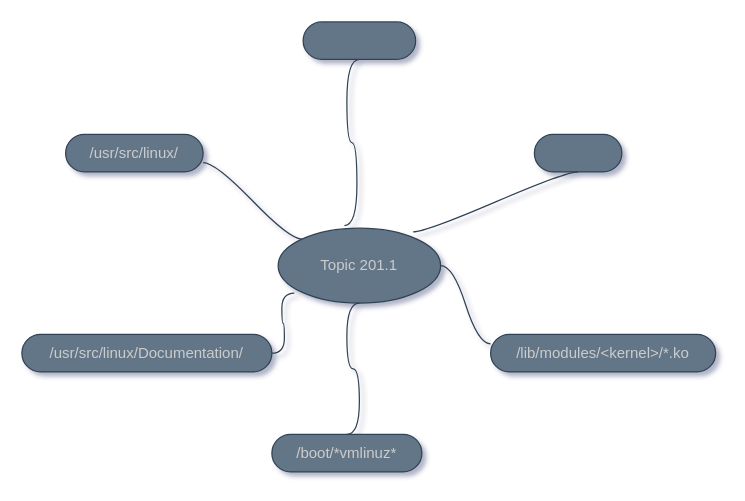
This 745x501 diagram has some shape labels left out. Each missing label, with the centre of its shape:
bzImage: (359,40)
tar.xz: (577,152)
